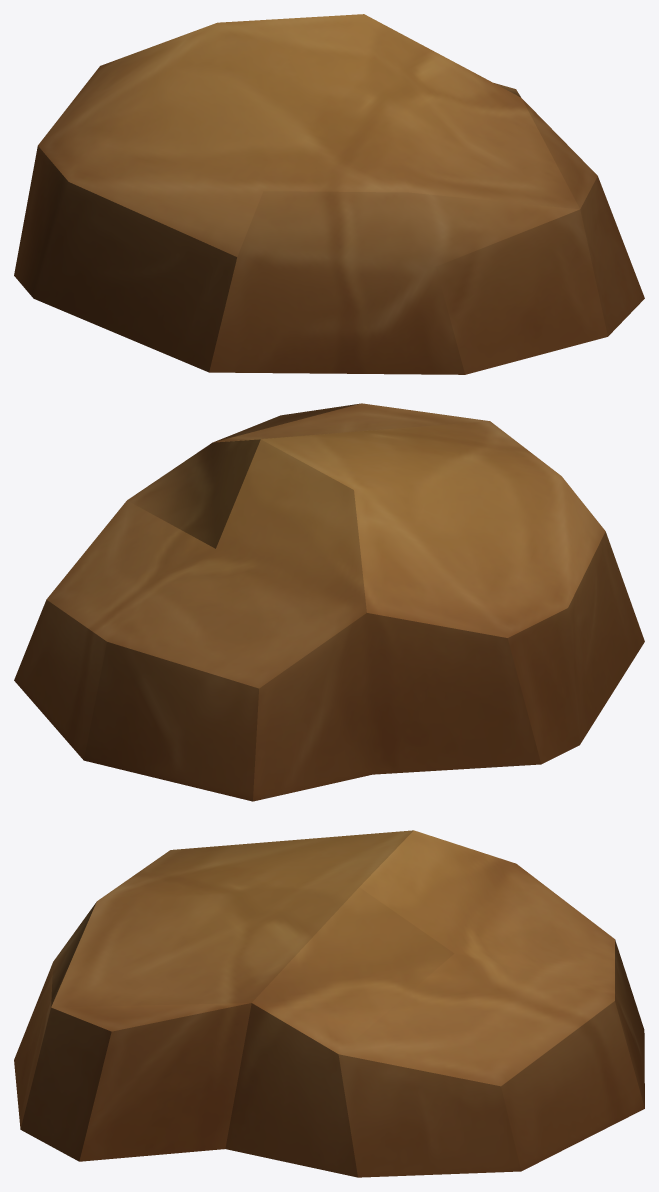
Rendered from Desert_stone_01.fbx.
3 views of the same model, one above another, from view 1: azimuth 30°, elevation 25°; view 2: azimuth 150°, elevation 25°; view 3: azimuth 270°, elevation 25° (orthographic). The views are drawn at different scales.
Parts seen in each view (by area): view 1: Desert_stone_01; view 2: Desert_stone_01; view 3: Desert_stone_01.
Boxes of the visible parts, x1=… form: Desert_stone_01: x1=14, y1=14, x2=644, y2=374; Desert_stone_01: x1=14, y1=403, x2=644, y2=801; Desert_stone_01: x1=14, y1=830, x2=644, y2=1177.
Bounding box in the file's own units: 81.63 × 33.82 × 92.62.
